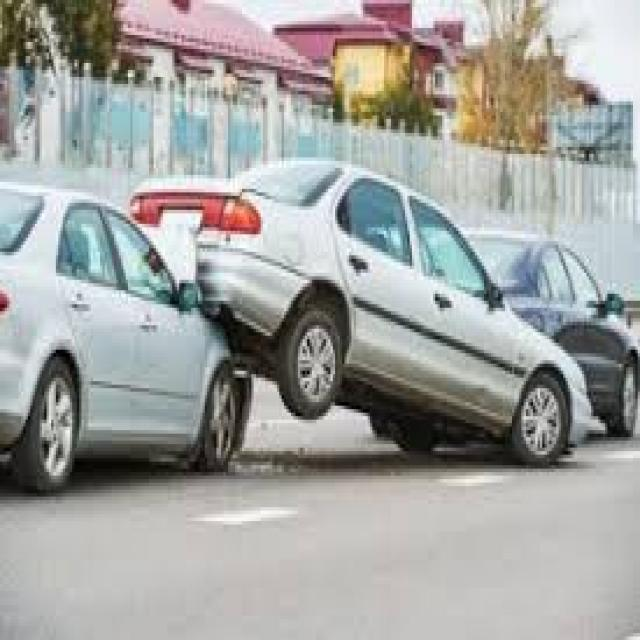accident: (0, 143, 503, 514)
